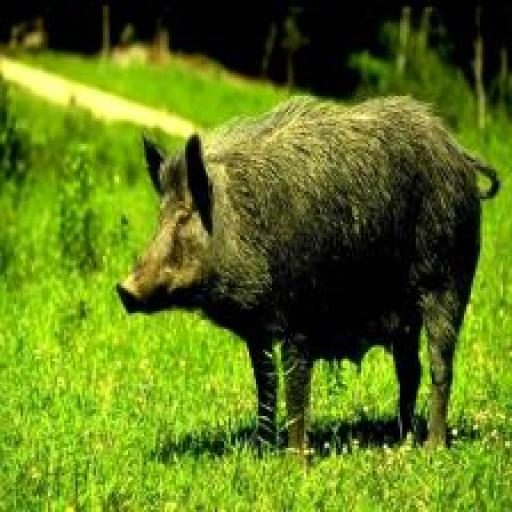Pig: (116, 92, 502, 460)
